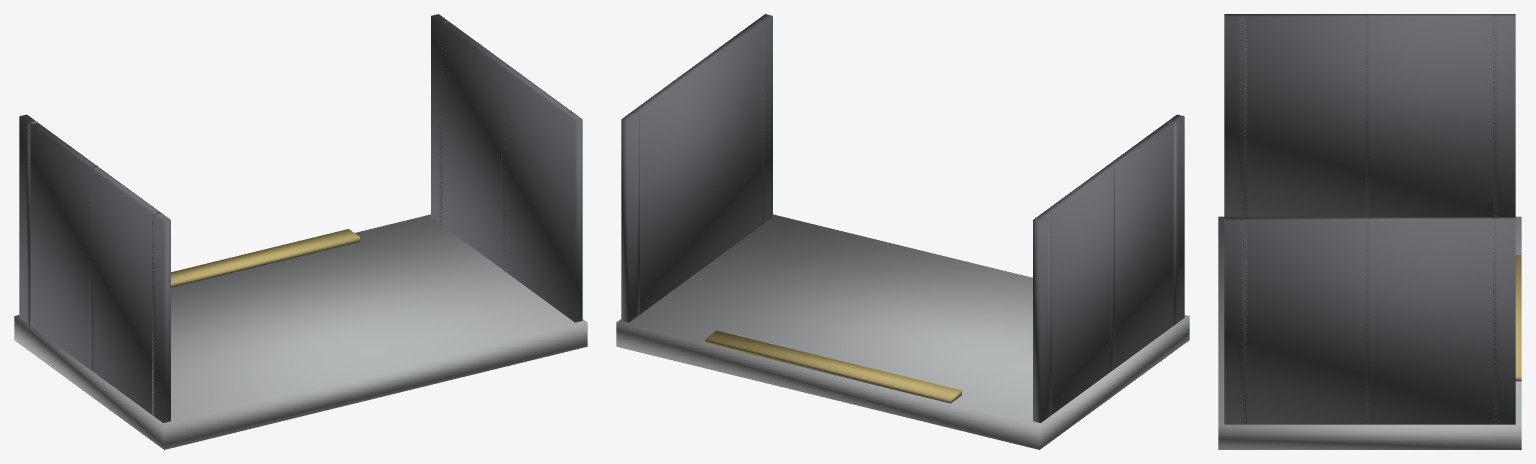
Rendered from floor_w220_d135_sides.glb.
3 views of the same model, side by side, from view 1: azimuth 30°, elevation 25°; view 2: azimuth 150°, elevation 25°; view 3: azimuth 270°, elevation 25° (orthographic).
Parts seen in each view (by area): view 1: world; view 2: world; view 3: world.
Boxes of the visible parts, x1,y1,x2,y2 form: world: (14,14,587,449); world: (616,14,1189,449); world: (1218,14,1521,449).
Size of the model in its own units: 2.2 by 1.12 by 1.35.
